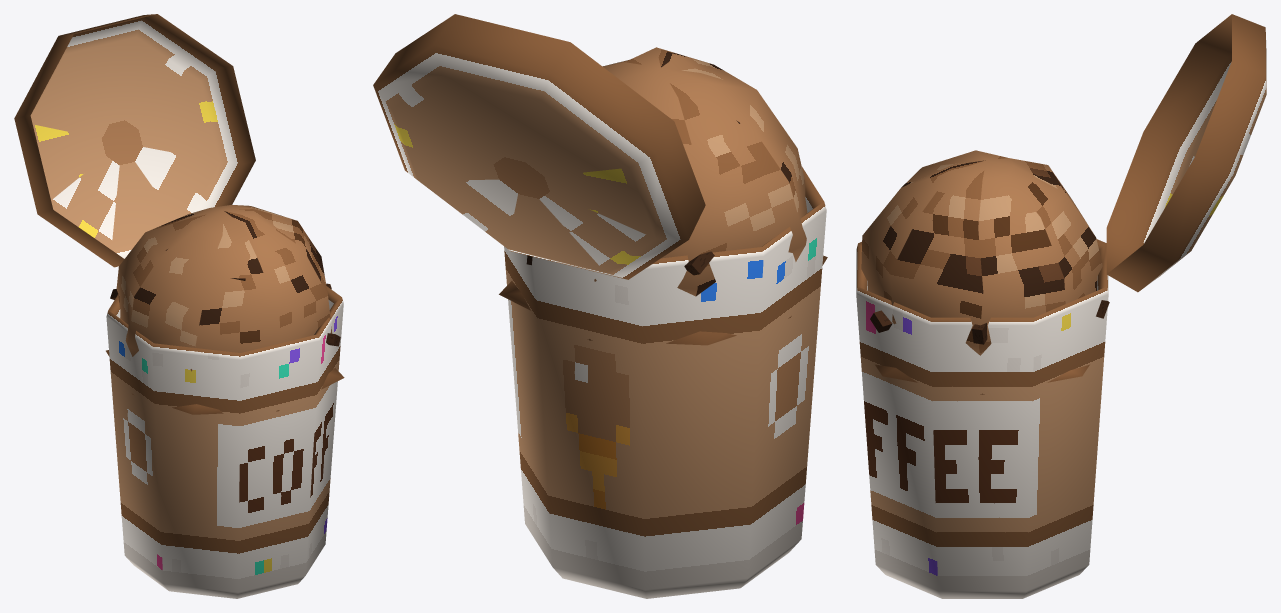
The model's file is Pint Coffee Full.fbx.
3 views of the same model, side by side, from view 1: azimuth 30°, elevation 25°; view 2: azimuth 150°, elevation 25°; view 3: azimuth 270°, elevation 25° (orthographic). The views are drawn at different scales.
Parts seen in each view (by area): view 1: Pint Coffee Full carton, Pint Coffee Full lid, Pint Coffee Full scoop; view 2: Pint Coffee Full carton, Pint Coffee Full lid, Pint Coffee Full scoop; view 3: Pint Coffee Full carton, Pint Coffee Full scoop, Pint Coffee Full lid.
Part boxes in pixels (<box>): Pint Coffee Full carton: <box>106,286,343,598</box>; Pint Coffee Full lid: <box>14,14,255,267</box>; Pint Coffee Full scoop: <box>106,205,344,414</box>; Pint Coffee Full carton: <box>504,166,826,598</box>; Pint Coffee Full lid: <box>373,14,705,279</box>; Pint Coffee Full scoop: <box>499,47,827,345</box>; Pint Coffee Full carton: <box>856,239,1108,598</box>; Pint Coffee Full scoop: <box>861,150,1102,394</box>; Pint Coffee Full lid: <box>1106,14,1266,292</box>.
Bounding box in the file's own units: 0.1044 × 0.2186 × 0.1562.
4 materials, 4 textured.
